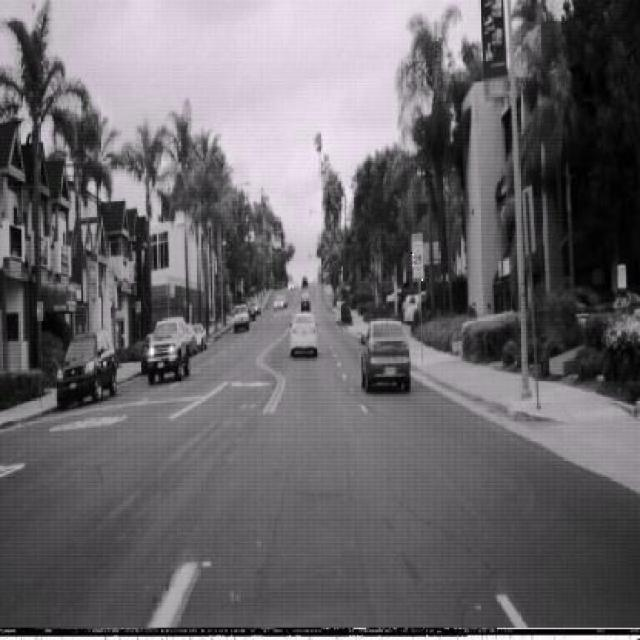schoolSpeedLimit25: (411, 234, 425, 283)
